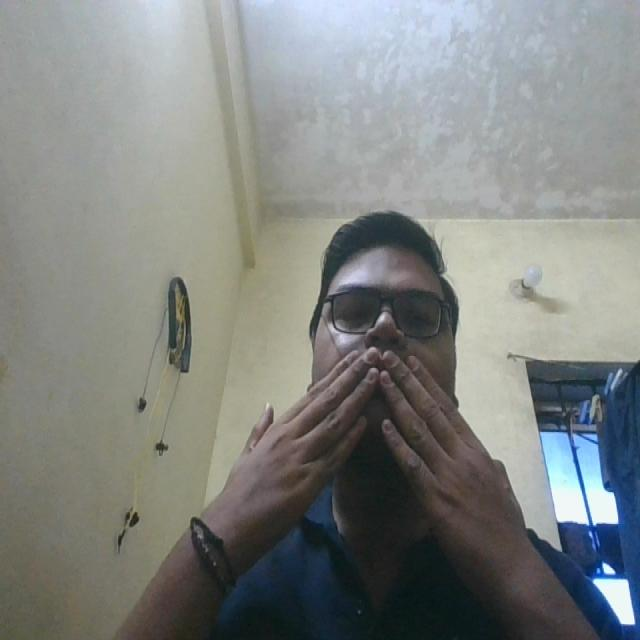Thanks: (231, 319, 534, 561)
